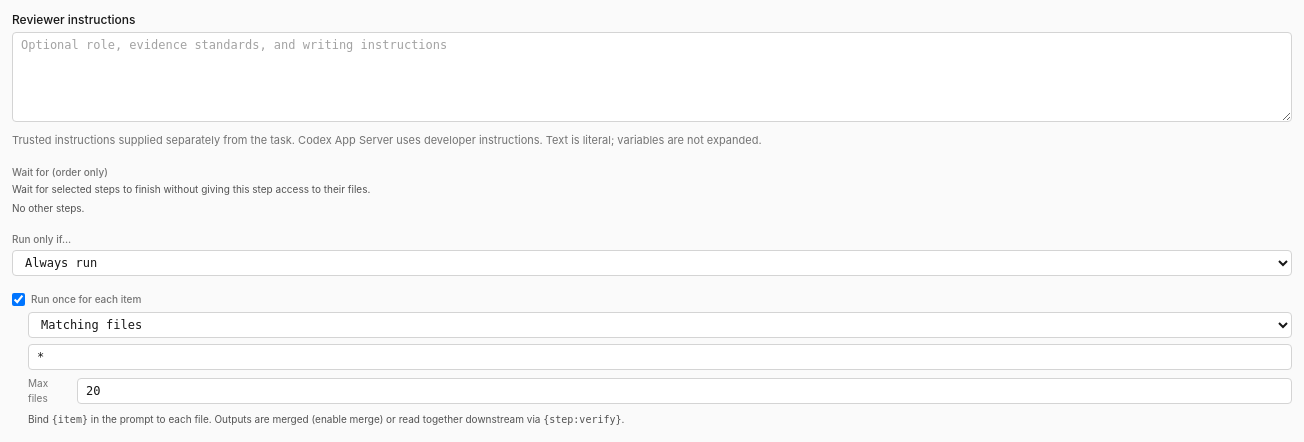
AdvancedStepOptions typed values › restores the maximum when the field is left empty
Clear the number field named "Maximum items" at (684, 390), box 77,378 -> 1292,404
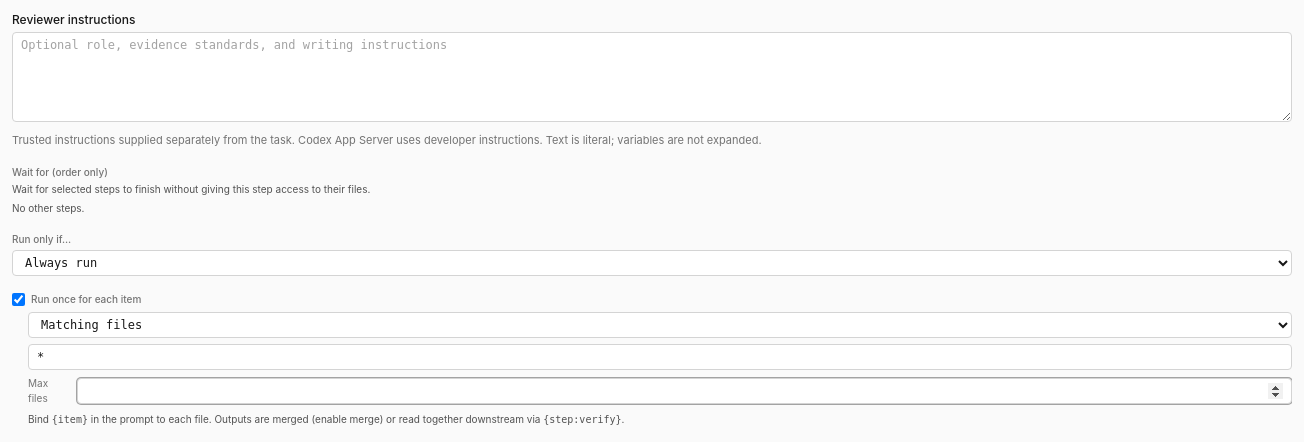
Press Tab
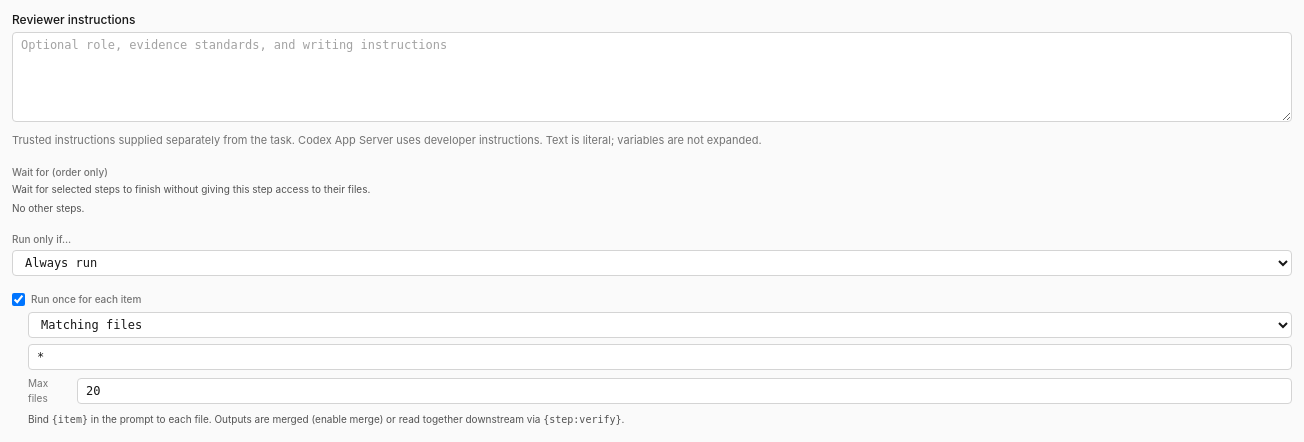
Check: the number field named "Maximum items" holds "20", box 77,378 -> 1292,404
